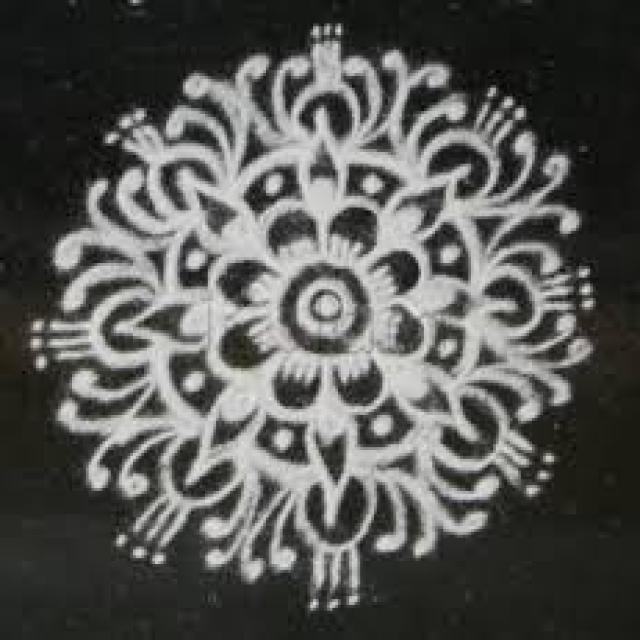rangoli: (12, 20, 603, 626)
